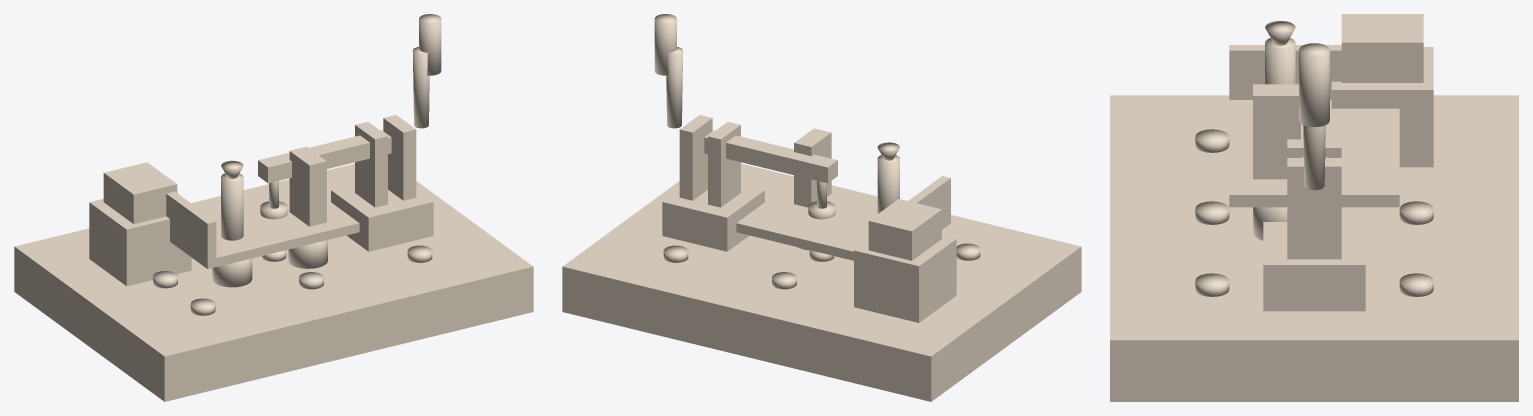
The model's file is assembly-jig-fixture.glb.
3 renders of one model, left to right at view 1: azimuth 30°, elevation 25°; view 2: azimuth 150°, elevation 25°; view 3: azimuth 270°, elevation 25°, orthographic. The views are drawn at different scales.
Size of the model in its own units: 1.7 by 1.08 by 1.2.
